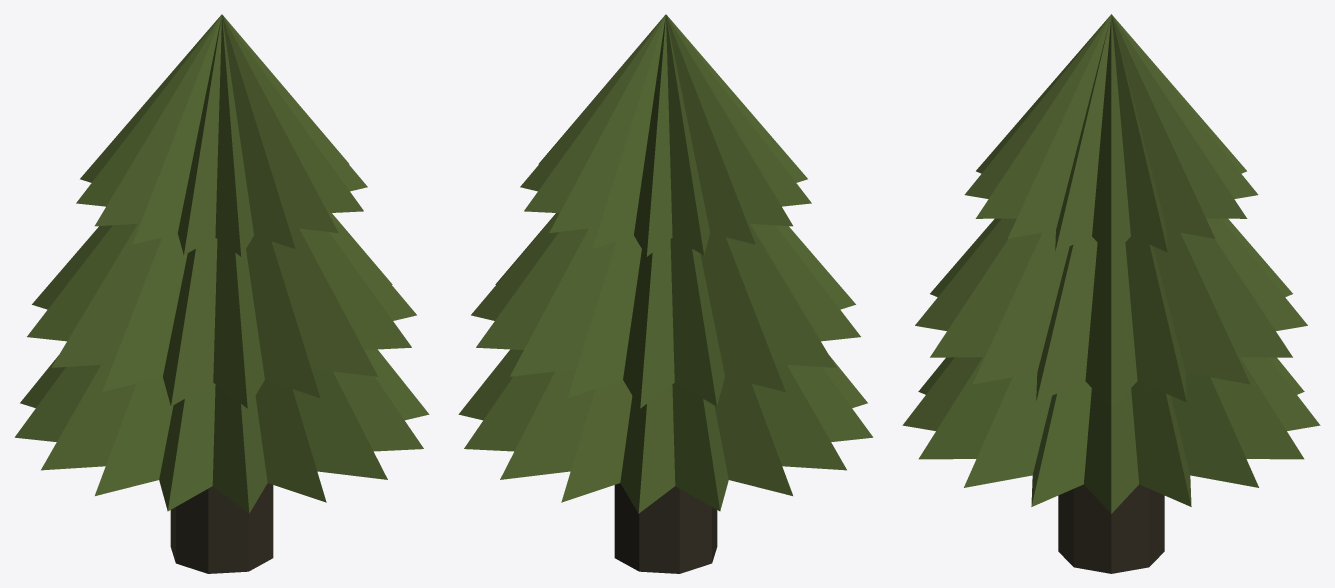
File: Pino.fbx
3 renders of one model, left to right at view 1: azimuth 30°, elevation 25°; view 2: azimuth 150°, elevation 25°; view 3: azimuth 270°, elevation 25°, orthographic.
Parts seen in each view (by area): view 1: Cono; view 2: Cono; view 3: Cono.
Boxes of the visible parts, x1,y1,x2,y2 form: Cono: [14, 14, 429, 573]; Cono: [458, 14, 873, 573]; Cono: [902, 14, 1320, 573].
Size of the model in its own units: 7.11 by 10.08 by 7.11.
